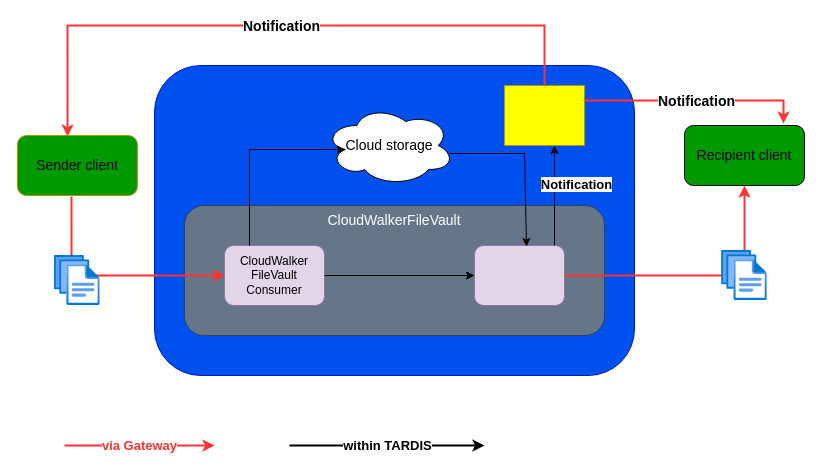
Some shapes in this 823 by 472 pixel diagram are drawn without their labels. Each missing label, with the box of its shape:
CloudWalker FileVault Provider: (474, 244, 564, 306)
Horizon: (504, 84, 584, 146)
